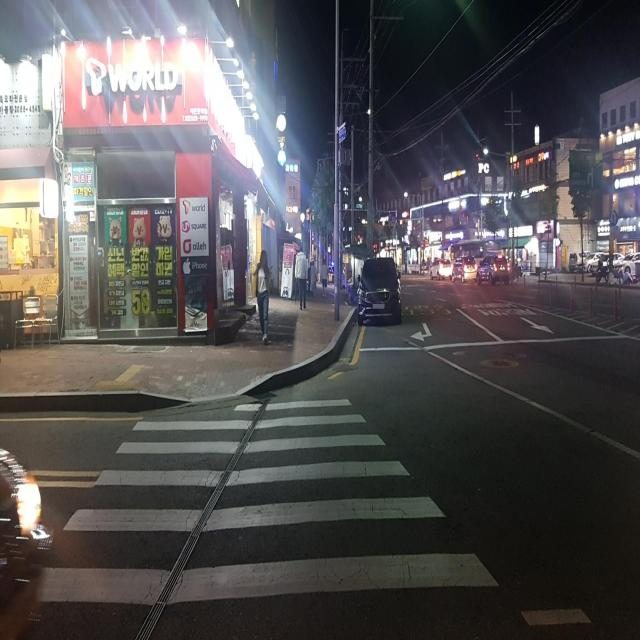횡단보도: (34, 398, 501, 608)
